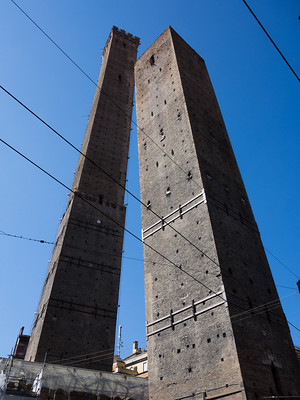low: (24, 23, 141, 372)
medium: (131, 23, 300, 400)
